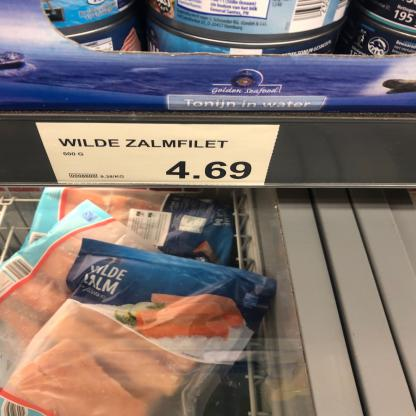prtg: (36, 123, 282, 187)
